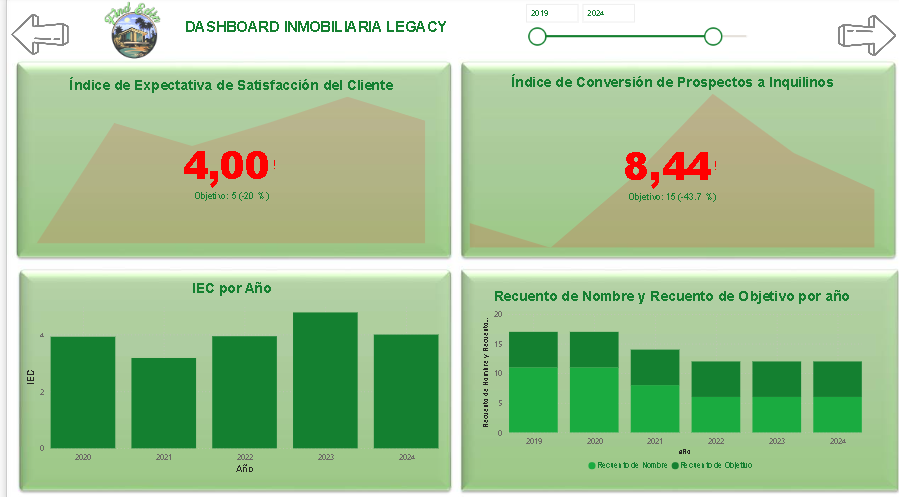

The page's visual inventory and layout, read from the dashboard file:
{"tool":"powerbi","page":{"name":"KPIs_1-2","canvas":[1280,720],"ordinal":1},"visuals":[{"type":"image","box":[97.9,0,163.6,97.9],"z":0},{"type":"textbox","box":[192.7,26,492.4,55.1],"z":1000},{"type":"kpi","title":"Índice de Expectativa de Satisfacción del Cliente","fields":{"TrendLine":["calendario.año"],"Indicator":["legacy_inmobiliaria contratos.IEC"],"Goal":["legacy_inmobiliaria contratos.objetivo_IEC"]},"box":[38.7,113.1,561.1,241.1],"z":2000},{"type":"kpi","title":"Índice de Conversión de Prospectos a Inquilinos","fields":{"TrendLine":["calendario.año"],"Indicator":["legacy_inmobiliaria contratos.Índice de Conversión"],"Goal":["legacy_inmobiliaria contratos.Objetivo de Conversión"]},"box":[651.4,108.6,584.3,251.4],"z":3000},{"type":"columnChart","fields":{"Y":["legacy_inmobiliaria contratos.IEC"],"Category":["legacy_inmobiliaria contratos.Fecha_Alquiler.Variación.Jerarquía de fechas.Año"]},"box":[21.3,401.1,596.7,280.6],"z":4000},{"type":"columnChart","fields":{"Y":["CountNonNull(legacy_inmobiliaria prospecto.Nombre)","CountNonNull(Objetivos.Objetivo)"],"Category":["calendario.año"]},"box":[668.3,412.3,549.2,269.4],"z":5000},{"type":"slicer","fields":{"Values":["calendario.año"]},"box":[724.9,0,348.7,73.4],"z":6000},{"type":"actionButton","box":[7.6,24.5,82,58],"z":7000},{"type":"actionButton","box":[1179.1,26,82.6,58.1],"z":8000}]}

Visuals, with their boxes in screenshot pixels (x1, y1, x2, y2), scaled from the page's 1280x720 canvas onto the 899x497 screenshot:
image: 69:0:184:68
textbox: 135:18:481:56
"Índice de Expectativa de Satisfacción del Cliente" kpi: 27:78:421:244
"Índice de Conversión de Prospectos a Inquilinos" kpi: 458:75:868:248
columnChart - legacy_inmobiliaria contratos.IEC x legacy_inmobiliaria contratos.Fecha_Alquiler.Variación.Jerarquía de fechas.Año: 15:277:434:471
columnChart - CountNonNull(legacy_inmobiliaria prospecto.Nombre) x CountNonNull(Objetivos.Objetivo): 469:285:855:471
slicer - calendario.año: 509:0:754:51
actionButton: 5:17:63:57
actionButton: 828:18:886:58
